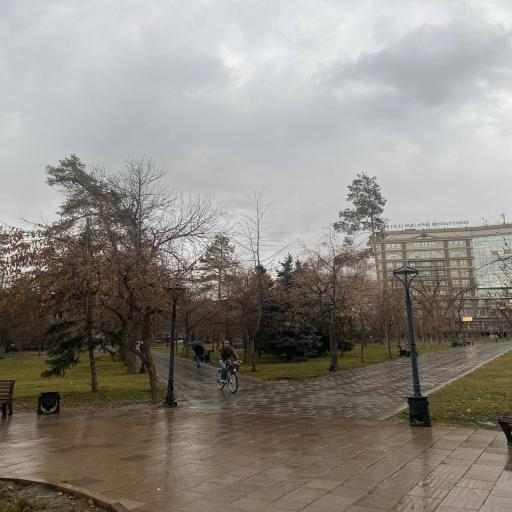bag: (216, 360, 240, 393)
glass_wall: (0, 407, 512, 512), (152, 341, 512, 419)
trash_bin: (397, 345, 418, 357), (452, 339, 466, 347)
